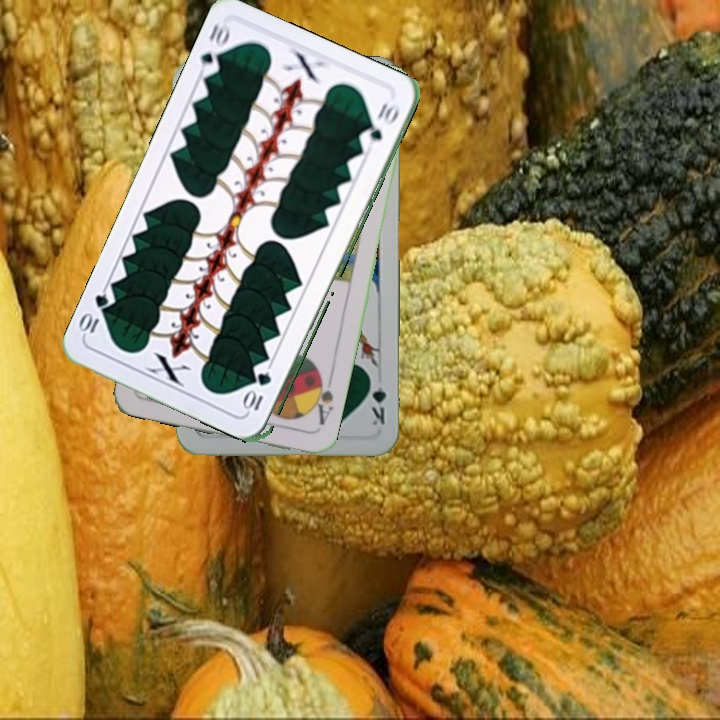G10: (195, 19, 233, 79), (242, 368, 274, 415)
GK: (366, 371, 389, 428)
SA: (307, 371, 336, 428)
